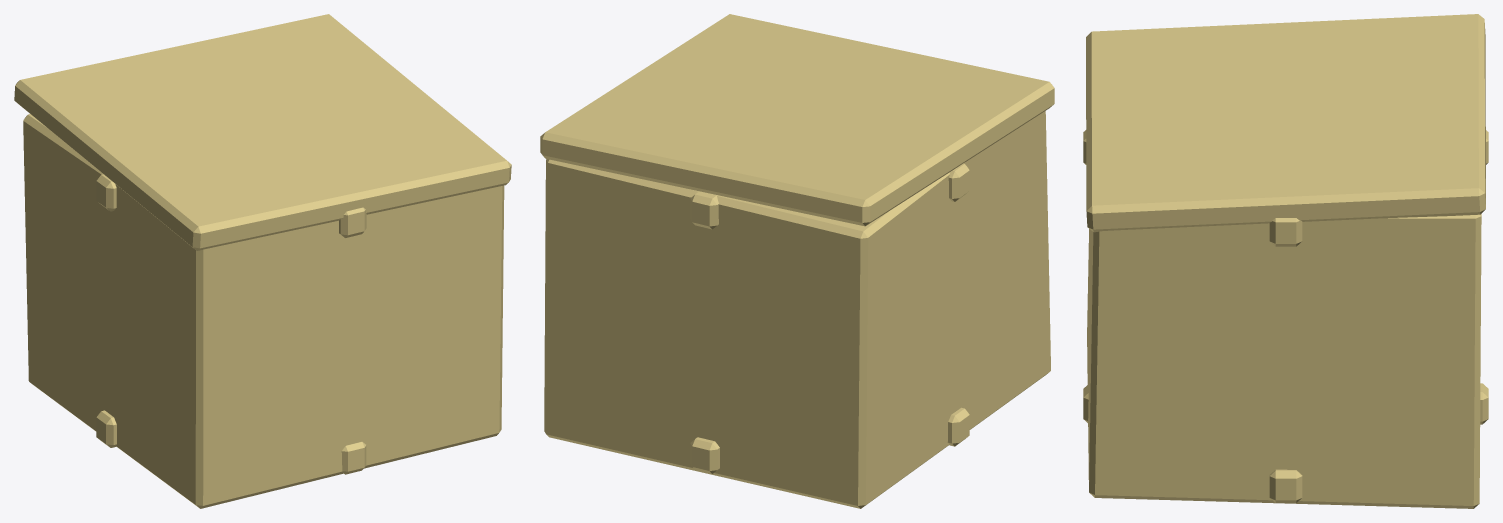
Rendered from prop_crate.glb.
The picture shows the model from 3 angles, left to right: view 1: azimuth 30°, elevation 25°; view 2: azimuth 150°, elevation 25°; view 3: azimuth 270°, elevation 25°; orthographic projection. The views are drawn at different scales.
Parts seen in each view (by area): view 1: PropCrate; view 2: PropCrate; view 3: PropCrate.
Boxes of the visible parts, <box> form: PropCrate: <box>14,14,511,508</box>; PropCrate: <box>540,14,1054,508</box>; PropCrate: <box>1083,14,1488,508</box>.
Size of the model in its own units: 1.36 by 1.23 by 1.36.
